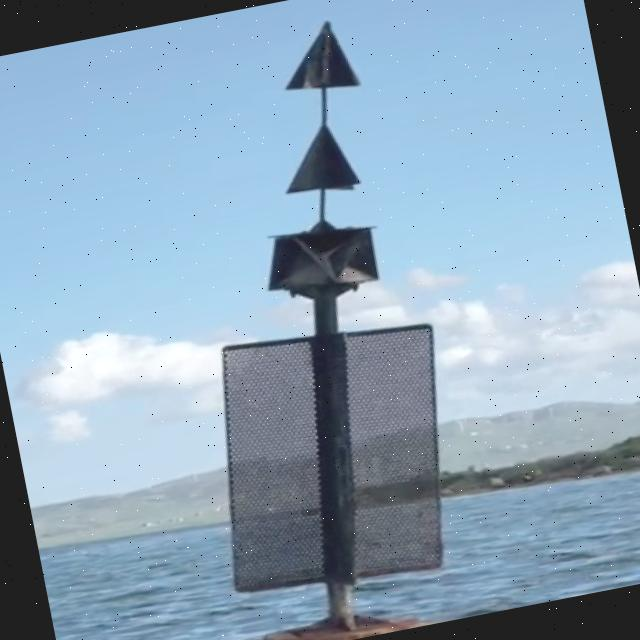marque: (44, 11, 515, 640)
